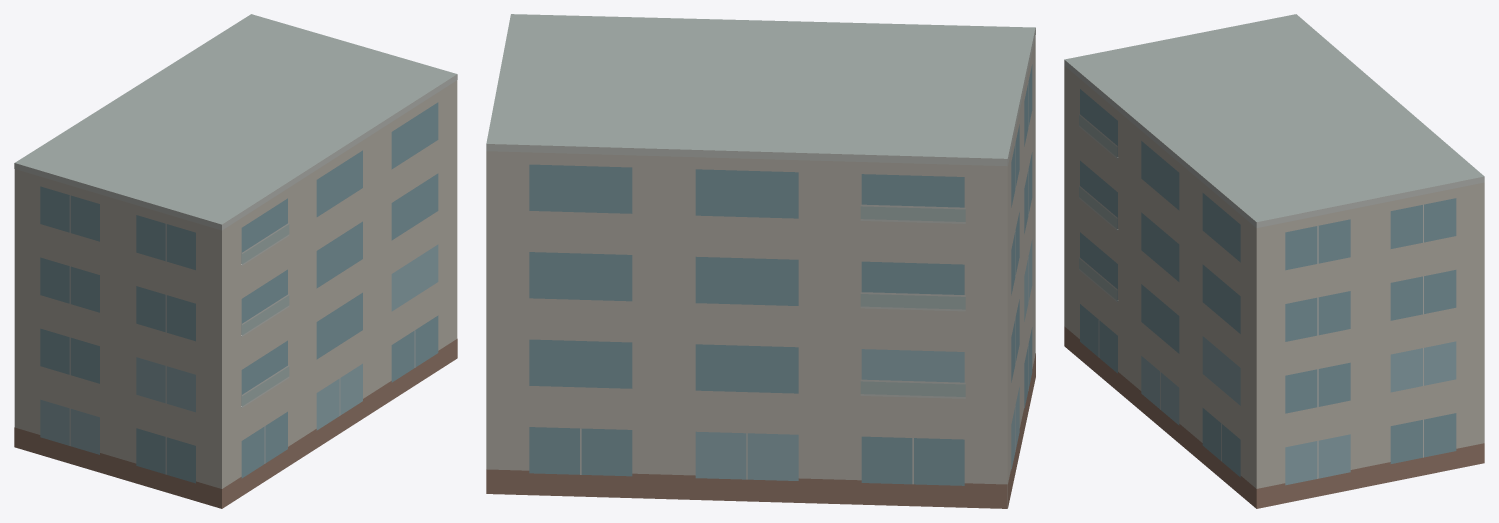
File: survey-upis-32809475.glb
3 views of the same model, side by side, from view 1: azimuth 30°, elevation 25°; view 2: azimuth 150°, elevation 25°; view 3: azimuth 270°, elevation 25° (orthographic). The views are drawn at different scales.
Visible parts, largest first — view 1: survey-upis-32809475.tmp; view 2: survey-upis-32809475.tmp; view 3: survey-upis-32809475.tmp.
Boxes of the visible parts, <box> form: survey-upis-32809475.tmp: <box>14,14,457,508</box>; survey-upis-32809475.tmp: <box>486,14,1035,508</box>; survey-upis-32809475.tmp: <box>1064,14,1484,508</box>.
Bounding box in the file's own units: 18.24 × 11.7 × 15.56.
